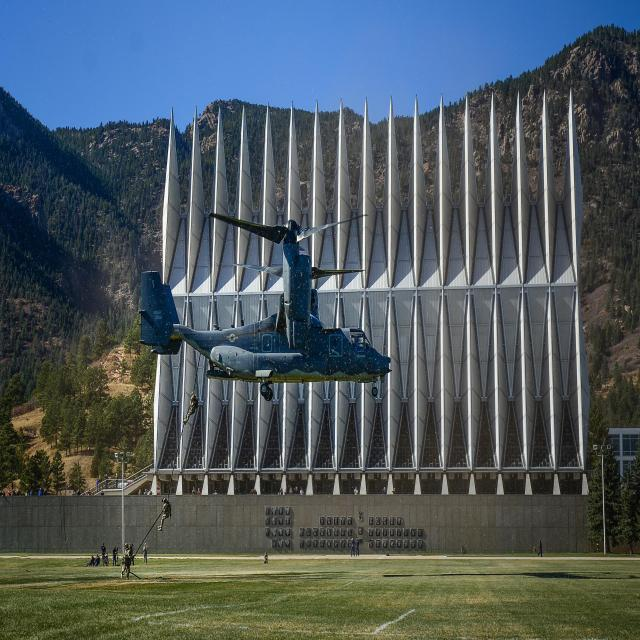MIL_Plane: (138, 212, 392, 401)
